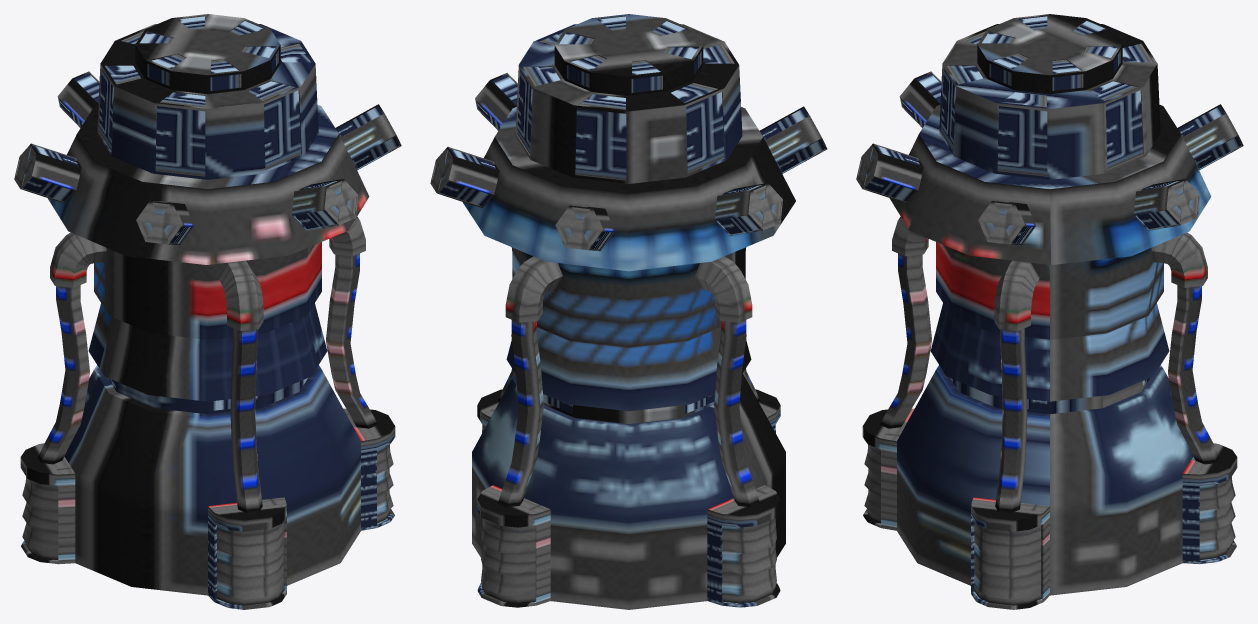
The model's file is Constructor.FBX.
3 views of the same model, side by side, from view 1: azimuth 30°, elevation 25°; view 2: azimuth 150°, elevation 25°; view 3: azimuth 270°, elevation 25° (orthographic). The views are drawn at different scales.
Visible parts, largest first — view 1: Cylinder04; view 2: Cylinder04; view 3: Cylinder04.
Boxes of the visible parts, x1,y1,x2,y2 form: Cylinder04: [14, 14, 401, 609]; Cylinder04: [430, 14, 827, 609]; Cylinder04: [856, 14, 1243, 609].
Size of the model in its own units: 136 by 136 by 188.
